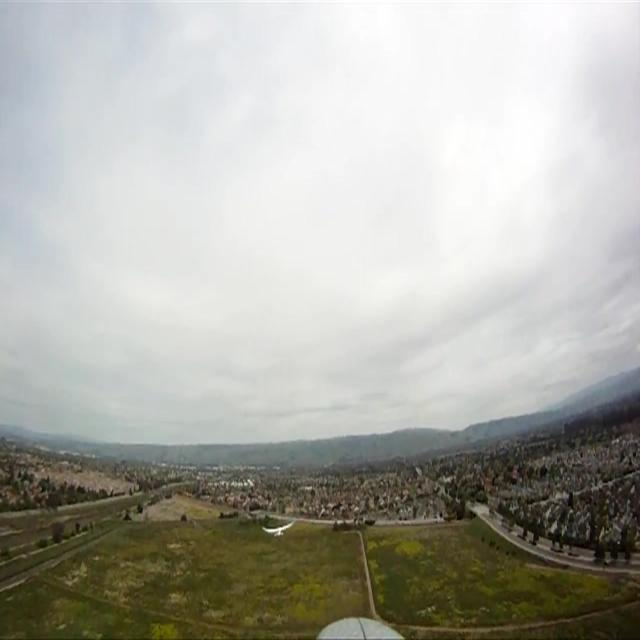iha: (262, 522, 295, 537)
